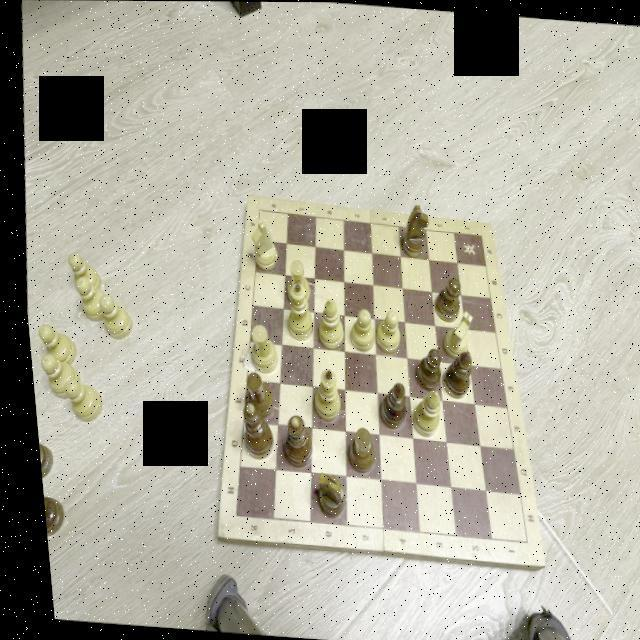chess-table-corners: (508, 536, 524, 548), (250, 205, 260, 214), (472, 230, 480, 240), (222, 511, 231, 518)
